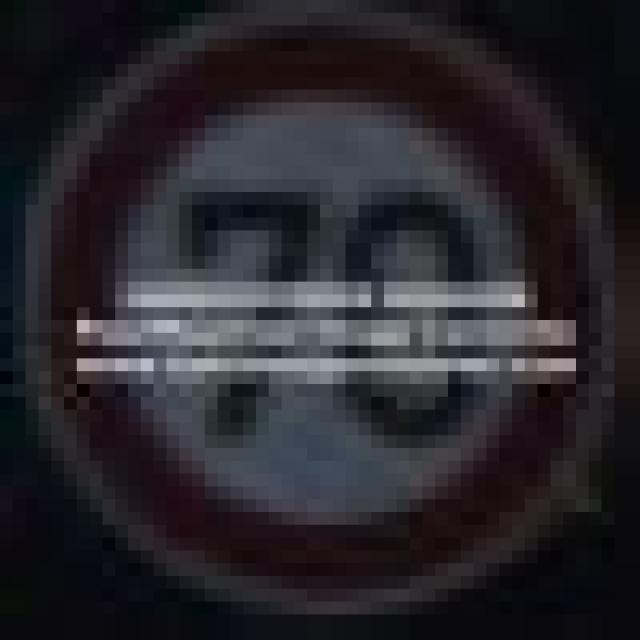SPEED_LIMIT_70: (38, 26, 589, 576)
